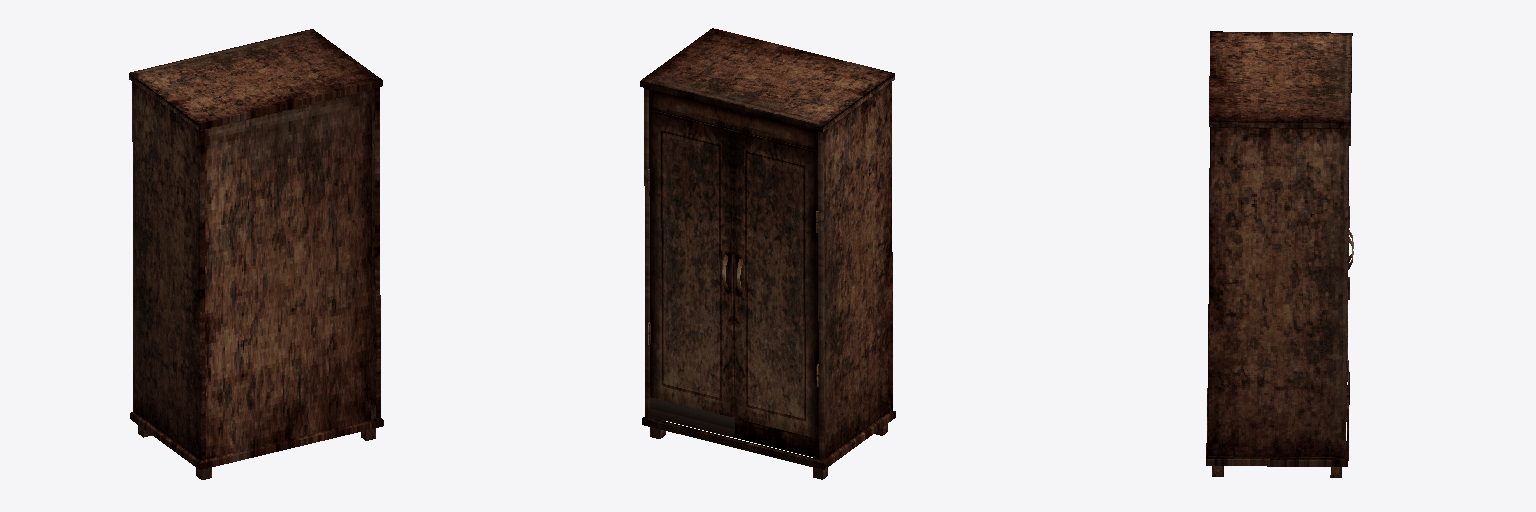
3 views of the same model, side by side, from view 1: azimuth 30°, elevation 25°; view 2: azimuth 150°, elevation 25°; view 3: azimuth 270°, elevation 25° (orthographic).
Parts seen in each view (by area): view 1: polySurface324; view 2: polySurface324; view 3: polySurface324.
Part boxes in pixels (x1,y1,x2,y2): polySurface324: (129, 29, 383, 479); polySurface324: (640, 28, 895, 479); polySurface324: (1206, 31, 1353, 477).
Bounding box in the file's own units: 1.34 × 2.5 × 0.9306.
Materials: 2 (1 with a texture image).